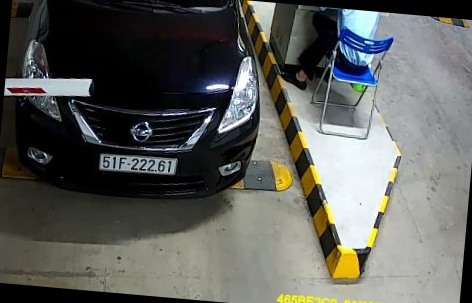plate: (97, 147, 178, 180)
